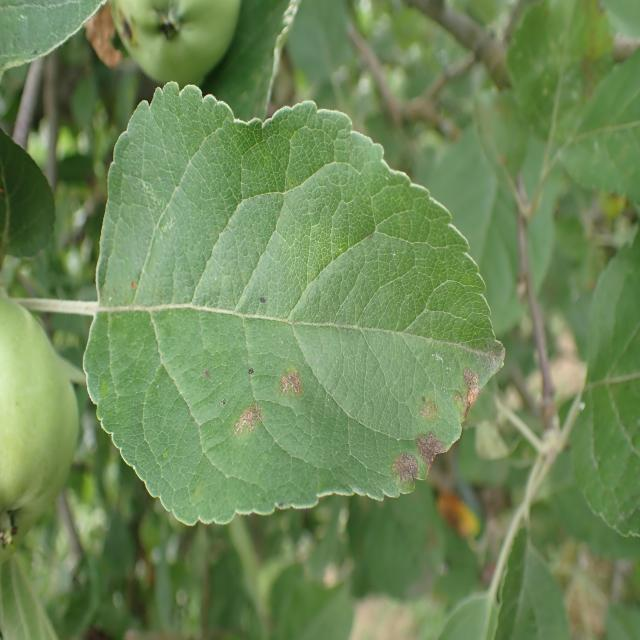scab: (87, 190, 493, 508)
